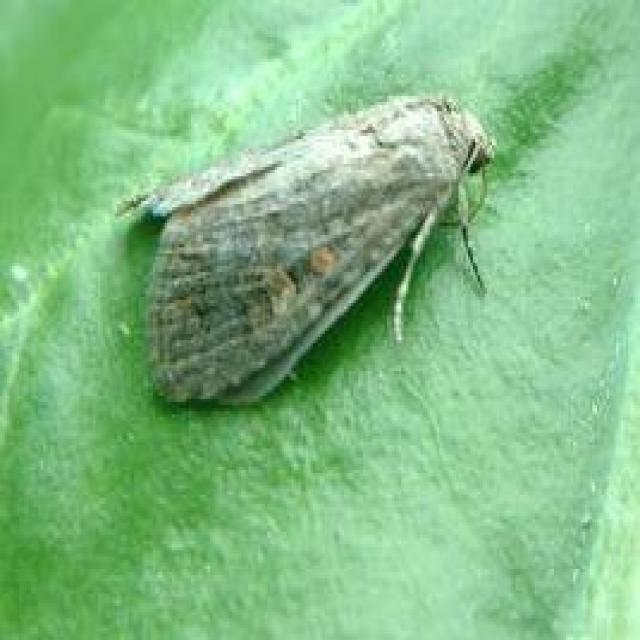BeetArmyWorm-Adult-: (93, 92, 517, 410)
